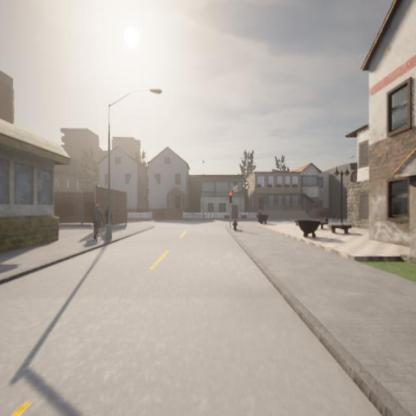person: (91, 203, 103, 243)
traffic_light_red: (228, 192, 232, 201)
